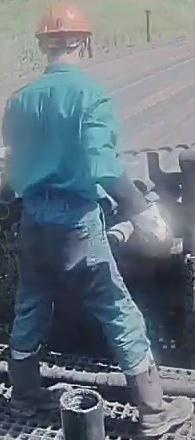gloves: (127, 202, 174, 264)
helmet: (31, 0, 94, 39)
vest: (3, 65, 116, 241)
